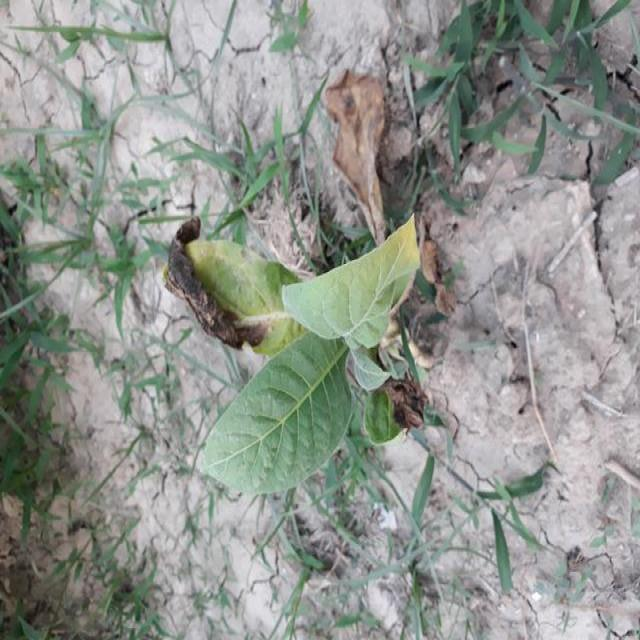crop: (170, 207, 422, 492)
